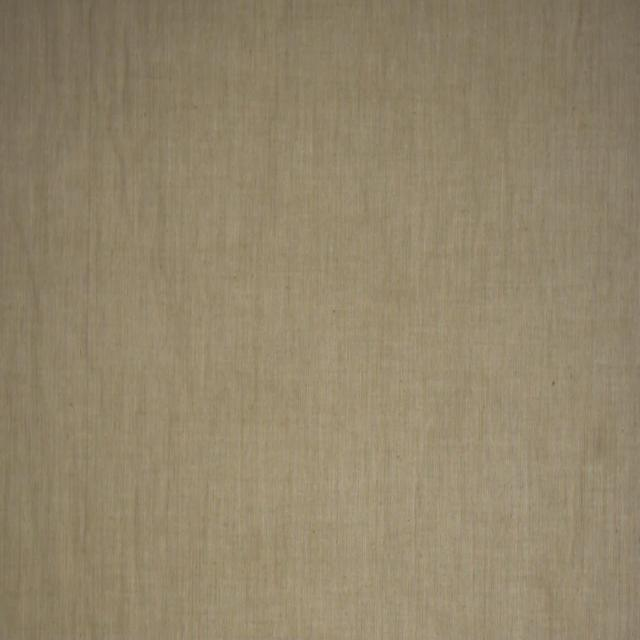dirty: (594, 428, 604, 462)
